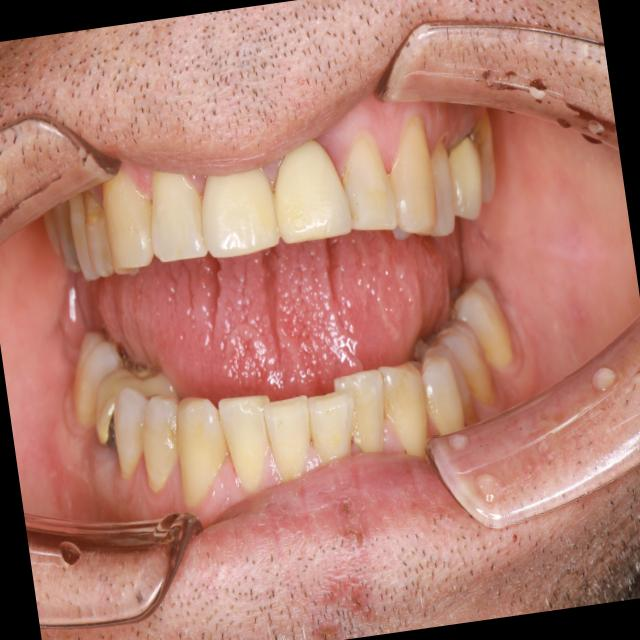tooth: (260, 127, 361, 260), (191, 150, 291, 273), (325, 117, 410, 245), (202, 378, 290, 500), (375, 102, 450, 244), (164, 384, 241, 519), (138, 165, 220, 282), (84, 357, 182, 453), (57, 321, 137, 435), (327, 355, 403, 471), (445, 266, 522, 379), (375, 349, 445, 467), (431, 308, 506, 414), (252, 389, 327, 494), (92, 167, 163, 274), (131, 390, 191, 500), (415, 346, 474, 453), (102, 381, 159, 488), (440, 120, 494, 229), (71, 182, 121, 288), (421, 139, 469, 246), (304, 385, 365, 468), (431, 335, 482, 429), (61, 191, 104, 292), (47, 199, 87, 288), (470, 112, 506, 207), (38, 208, 66, 262)
